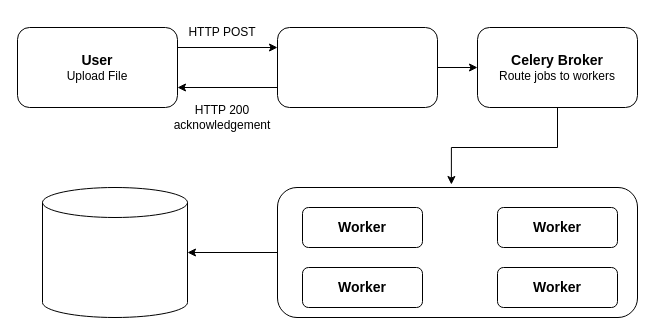
Some shapes in this 655 by 335 pixel diagram are drawn without their labels. The shapes that lost their labels are listed below. From the top down, each one's centre as x and y in pixels, then its label:
At point 357,67: "API Ingestion Service Enqueue celery task".
At point 115,252: "Storage".
